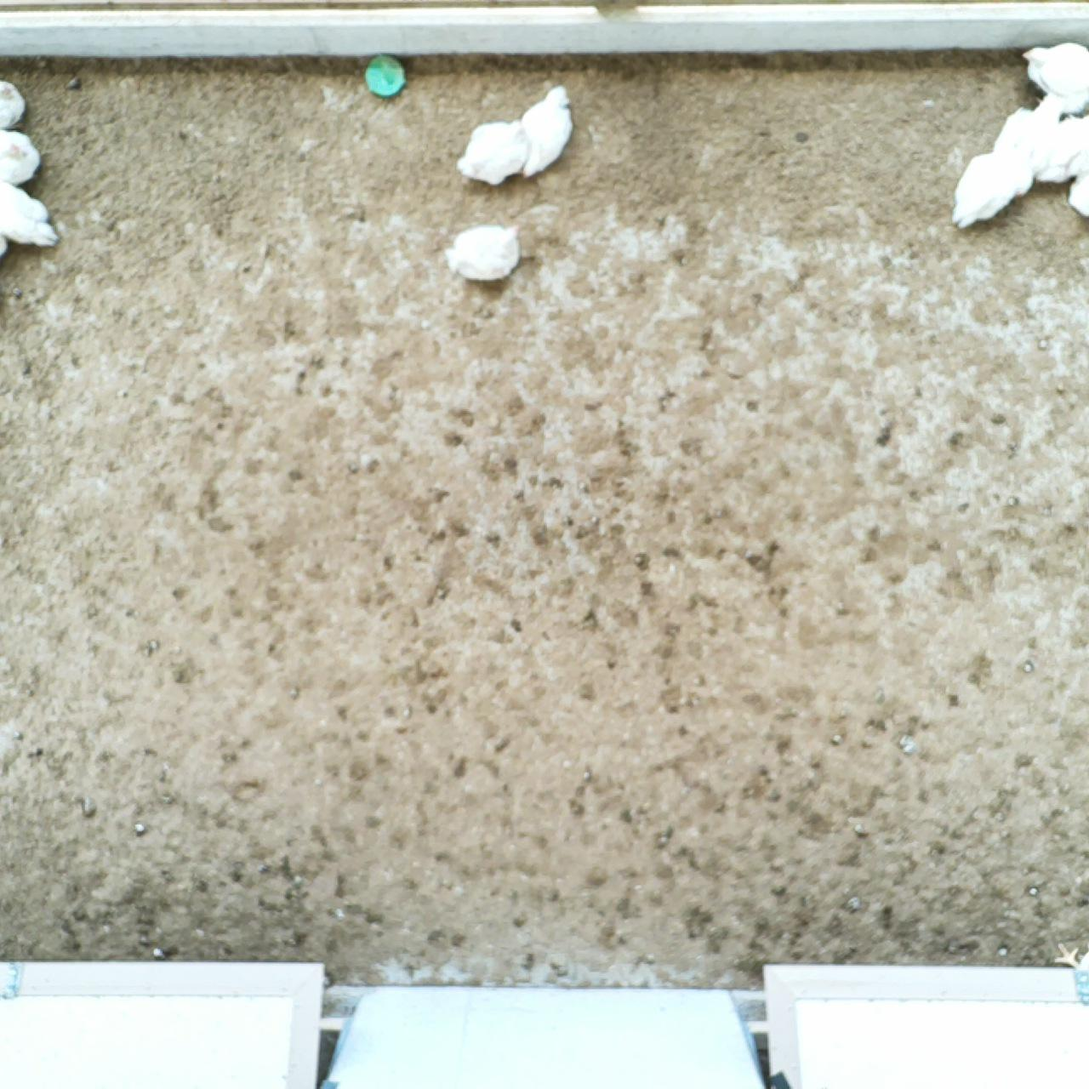chicken: (948, 145, 1038, 233), (996, 86, 1066, 178), (442, 220, 528, 284), (455, 115, 532, 185), (523, 84, 577, 180), (0, 174, 60, 259), (1019, 39, 1089, 107), (1034, 108, 1089, 193), (1050, 932, 1089, 1017), (0, 123, 38, 189), (0, 73, 26, 134), (1067, 154, 1089, 222)
